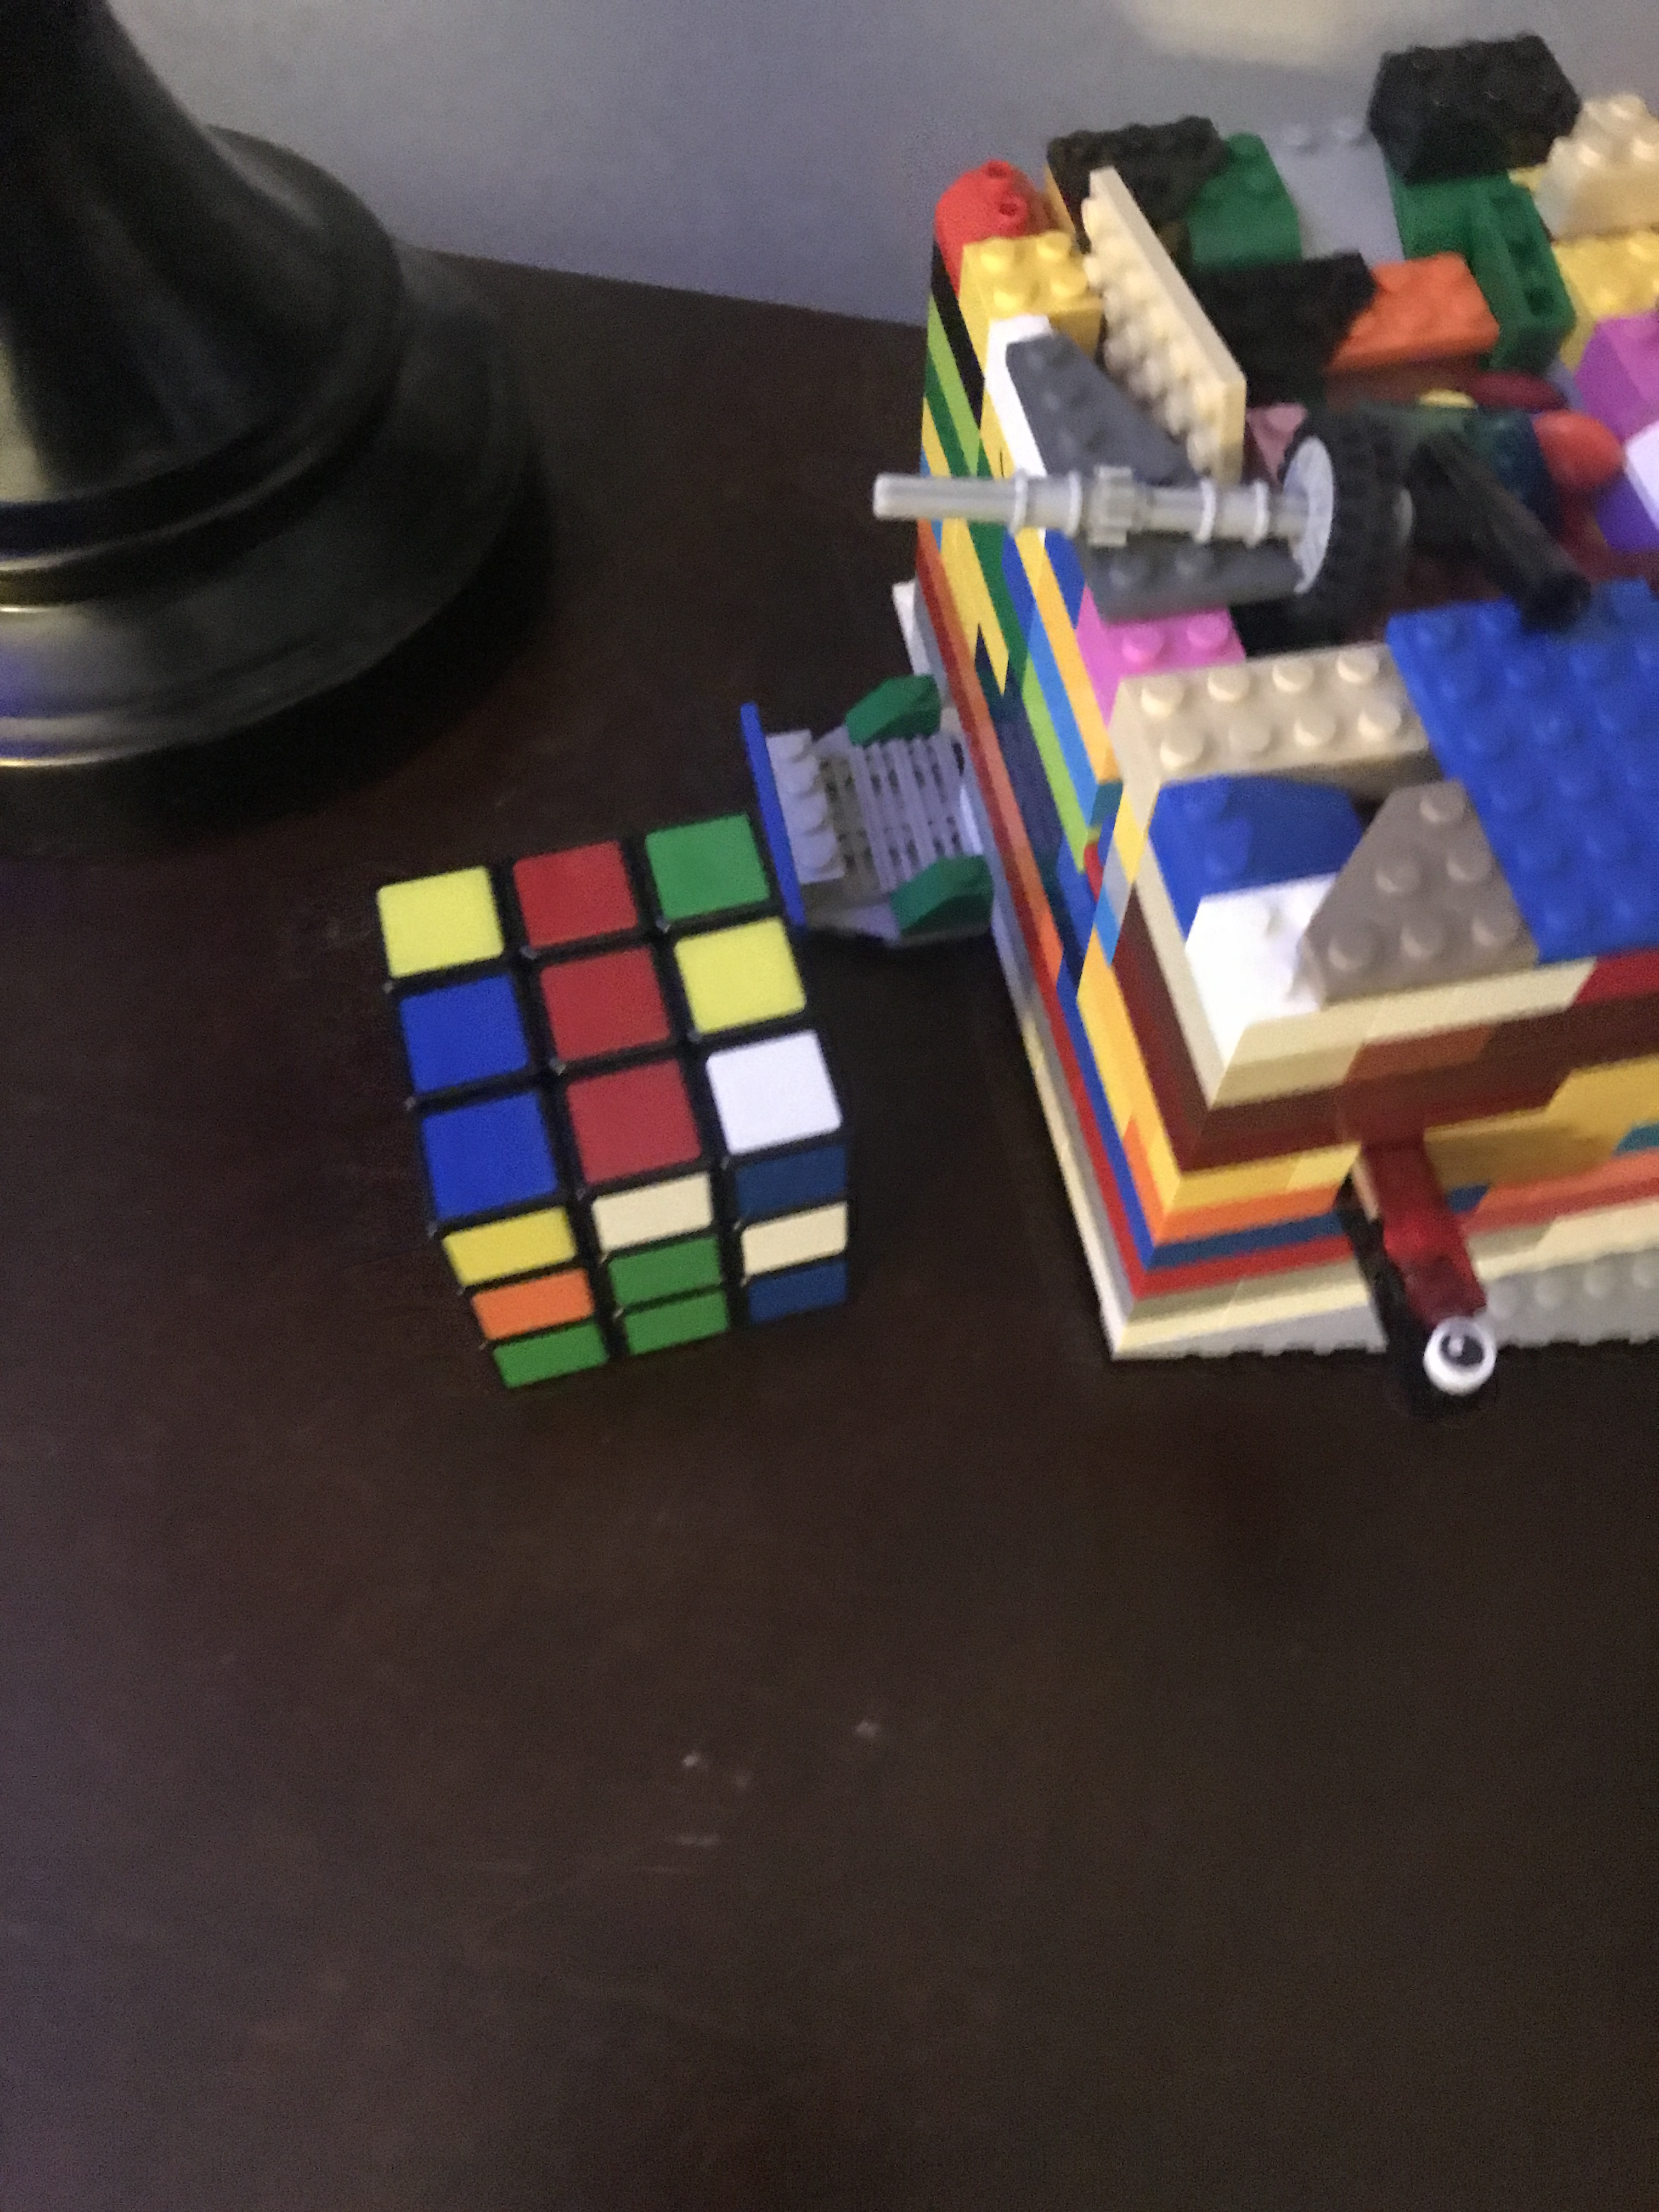rubiks: (366, 815, 870, 1404)
